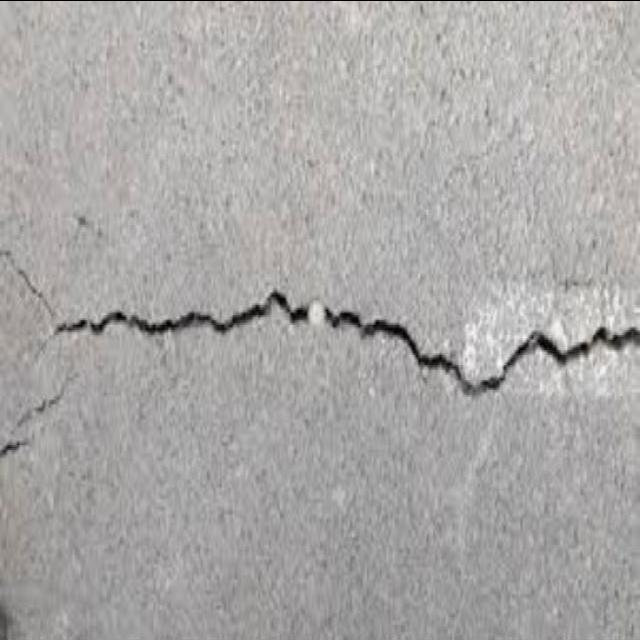Crack: (3, 250, 639, 493)
